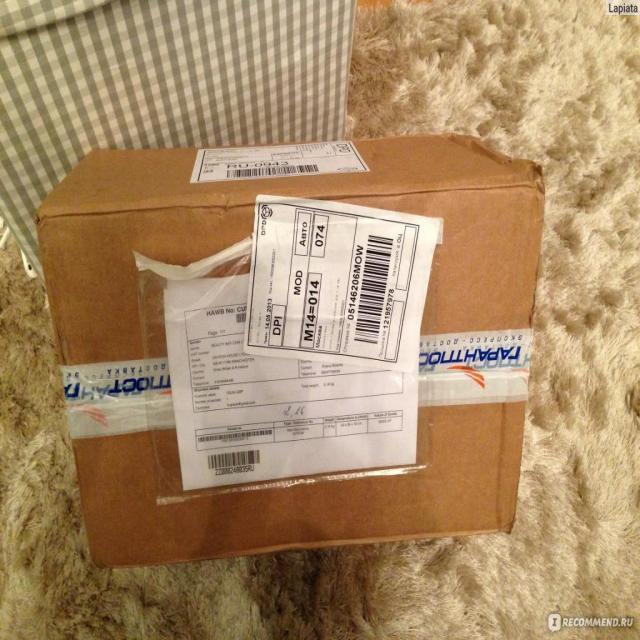box: (34, 125, 550, 566)
